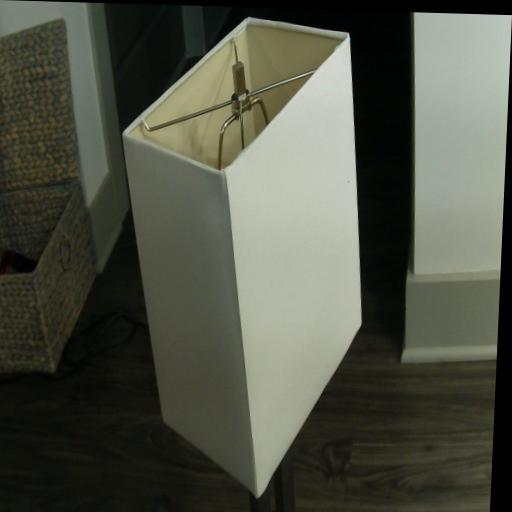lamp: (105, 12, 375, 512)
